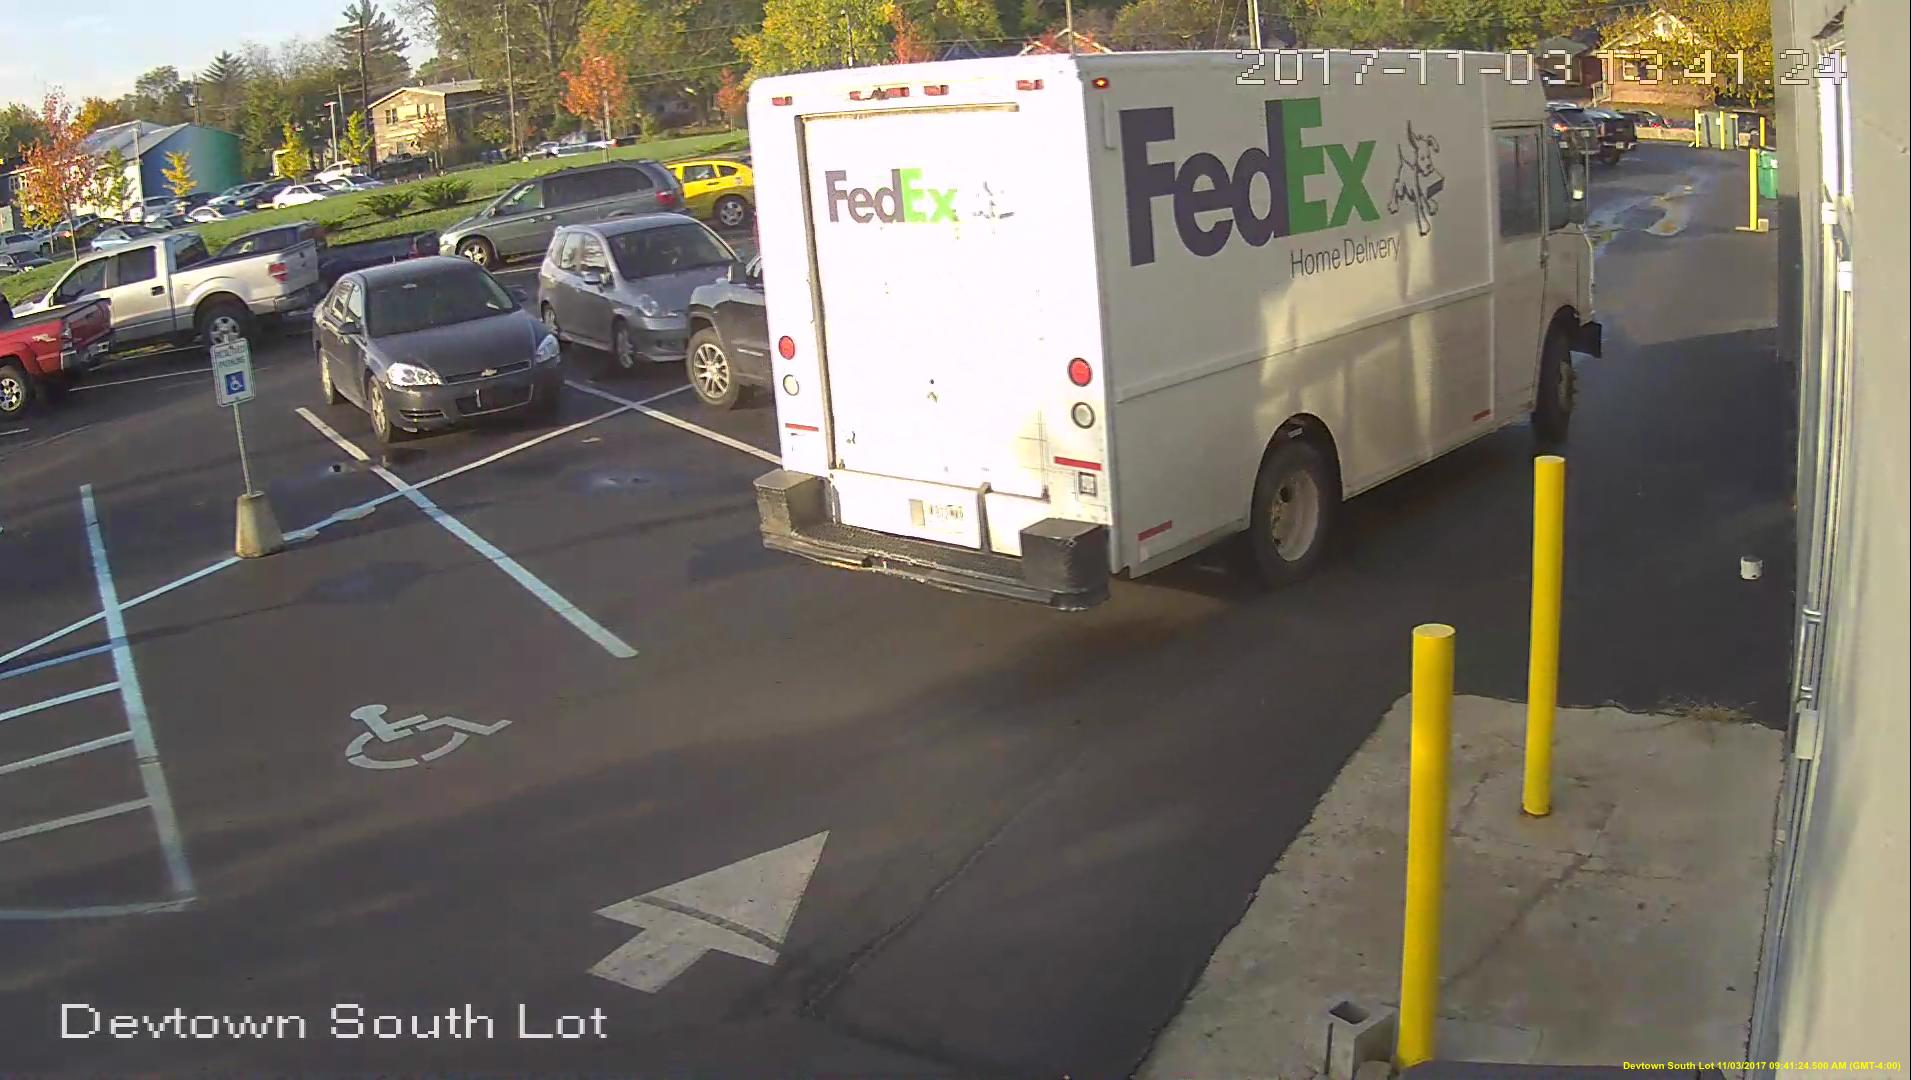fedex_truck: (728, 42, 1620, 618)
